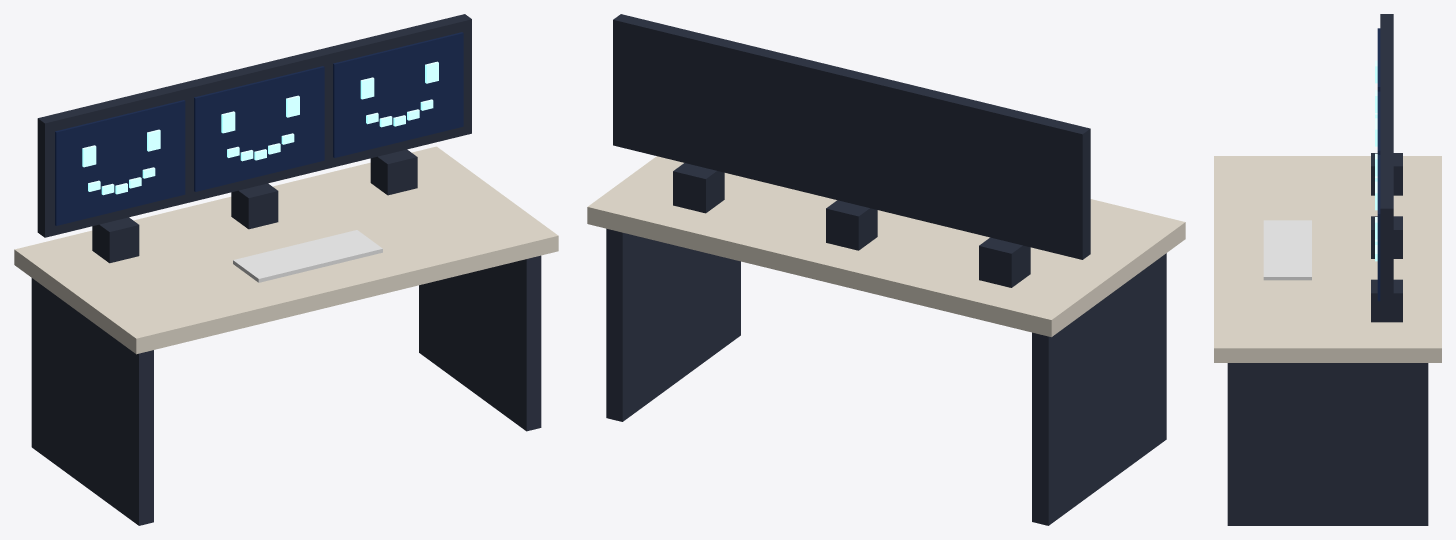
Rendered from desk_triple.glb.
3 views of the same model, side by side, from view 1: azimuth 30°, elevation 25°; view 2: azimuth 150°, elevation 25°; view 3: azimuth 270°, elevation 25° (orthographic). The views are drawn at different scales.
Parts seen in each view (by area): view 1: desk_top.002, desk_leg.004, desk_leg.005, mon_screen.003, mon_screen.004, mon_screen.005, mon_body.003, mon_body.005, keyboard.002, mon_body.004, mon_foot.003, mon_foot.005 (+1 smaller); view 2: desk_top.002, desk_leg.004, mon_body.003, mon_body.005, mon_body.004, desk_leg.005, mon_foot.005, mon_foot.004, mon_foot.003; view 3: desk_top.002, desk_leg.005, keyboard.002, mon_body.005, mon_body.004, mon_foot.005, mon_body.003, mon_foot.003, mon_foot.004, mon_screen.005.
Boxes of the visible parts, box(x1,y1,x2,y2) form: desk_top.002: box(14, 146, 558, 354); desk_leg.004: box(31, 278, 153, 525); desk_leg.005: box(419, 255, 541, 431); mon_screen.003: box(55, 100, 185, 225); mon_screen.004: box(194, 66, 324, 191); mon_screen.005: box(333, 32, 463, 157); mon_body.003: box(37, 83, 193, 237); mon_body.005: box(316, 14, 471, 169); keyboard.002: box(233, 230, 382, 282); mon_body.004: box(177, 50, 322, 201); mon_foot.003: box(92, 217, 139, 263); mon_foot.005: box(370, 149, 417, 195); desk_top.002: box(587, 156, 1185, 337); desk_leg.004: box(1032, 253, 1166, 525); mon_body.003: box(919, 88, 1090, 259); mon_body.005: box(613, 14, 783, 184); mon_body.004: box(766, 51, 936, 219); desk_leg.005: box(606, 228, 740, 421); mon_foot.005: box(673, 163, 724, 213); mon_foot.004: box(826, 200, 877, 250); mon_foot.003: box(979, 237, 1030, 287); desk_top.002: box(1214, 156, 1441, 362); desk_leg.005: box(1227, 363, 1428, 525); keyboard.002: box(1263, 220, 1311, 280); mon_body.005: box(1380, 143, 1393, 315); mon_body.004: box(1380, 77, 1393, 145); mon_foot.005: box(1371, 279, 1402, 322); mon_body.003: box(1380, 14, 1393, 77); mon_foot.003: box(1371, 153, 1402, 195); mon_foot.004: box(1371, 216, 1402, 258); mon_screen.005: box(1377, 155, 1380, 301).
Size of the model in its own units: 1.72 by 1.33 by 0.85.
